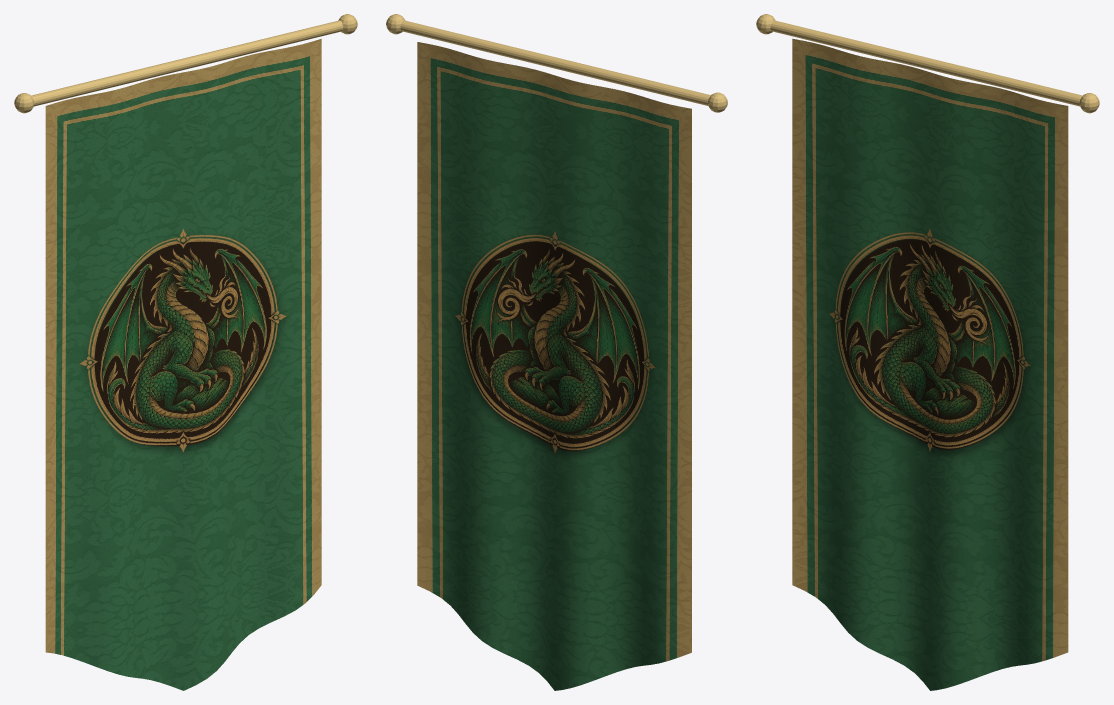
The model's file is banner_h1.glb.
3 views of the same model, side by side, from view 1: azimuth 30°, elevation 25°; view 2: azimuth 150°, elevation 25°; view 3: azimuth 330°, elevation 25° (orthographic).
Visible parts, largest first — view 1: banner_h1; view 2: banner_h1; view 3: banner_h1.
Boxes of the visible parts, x1,y1,x2,y2 form: banner_h1: (14, 14, 357, 690); banner_h1: (386, 14, 727, 690); banner_h1: (756, 14, 1099, 690).
Size of the model in its own units: 1.73 by 3.1 by 0.1.
Materials: 2 (1 with a texture image).
